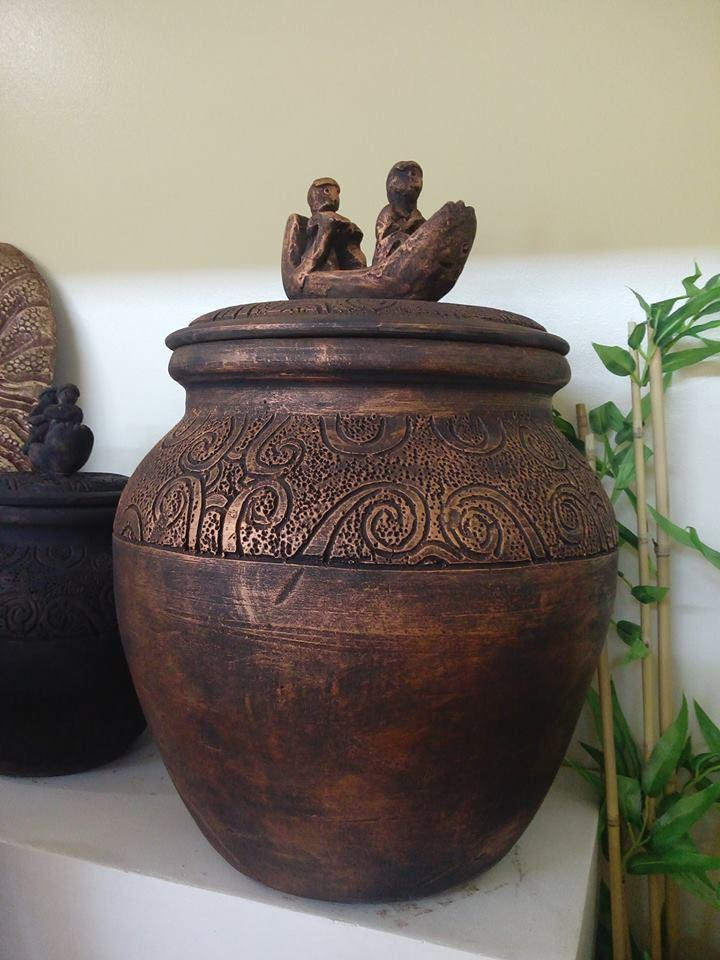manunggul_jar: (107, 144, 626, 927)
